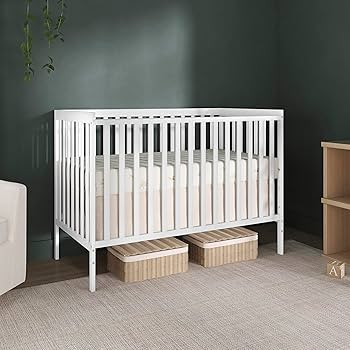crib: (54, 108, 283, 290)
